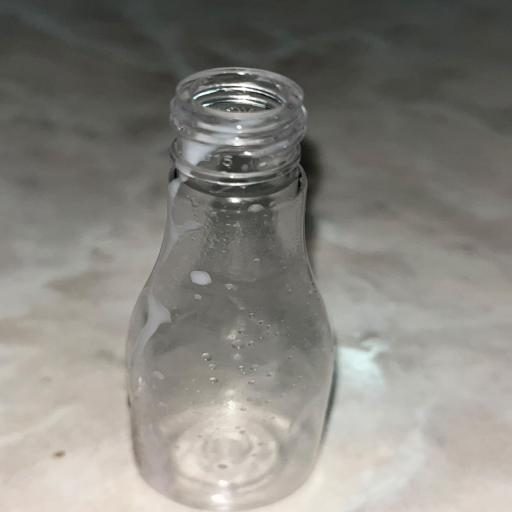PET: (72, 56, 427, 496)
